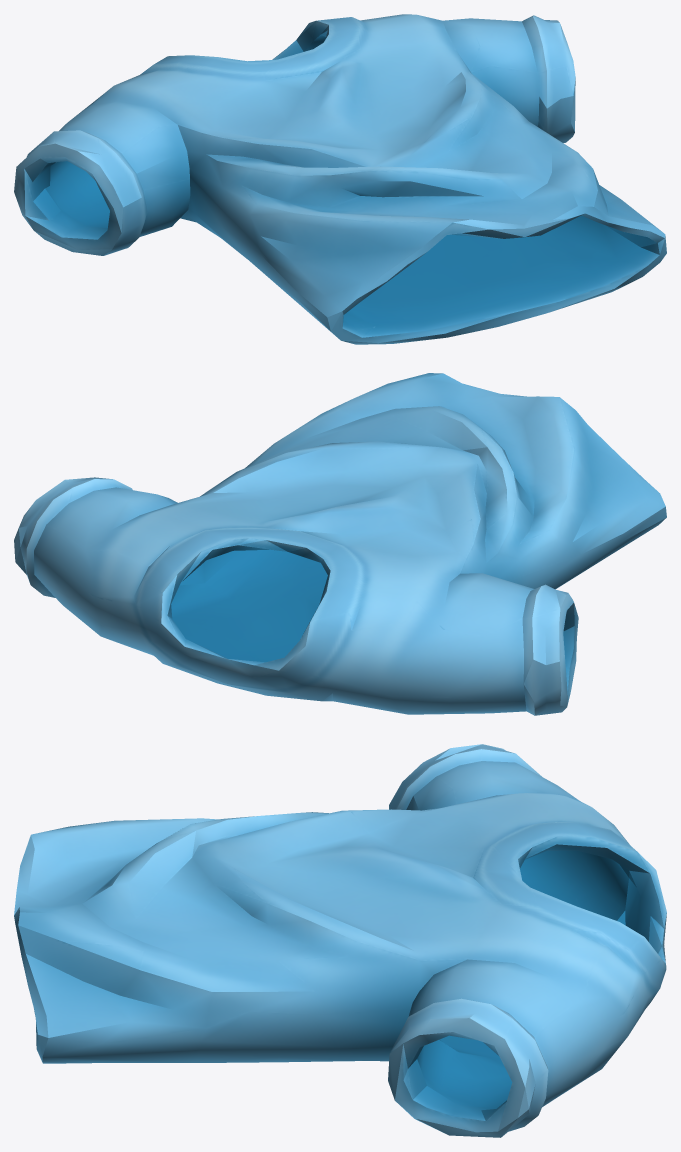
File: TT_ShirtBlue.glb
The picture shows the model from 3 angles, top to bottom: view 1: azimuth 30°, elevation 25°; view 2: azimuth 150°, elevation 25°; view 3: azimuth 270°, elevation 25°; orthographic projection. The views are drawn at different scales.
Visible parts, largest first — view 1: geometry_0; view 2: geometry_0; view 3: geometry_0.
Part boxes in pixels (left/top/right/bottom): geometry_0: left=14, top=14, right=666, bottom=344; geometry_0: left=14, top=373, right=666, bottom=715; geometry_0: left=14, top=744, right=666, bottom=1137.
Size of the model in its own units: 1 by 0.2264 by 0.9088.
1 material, 1 textured.
